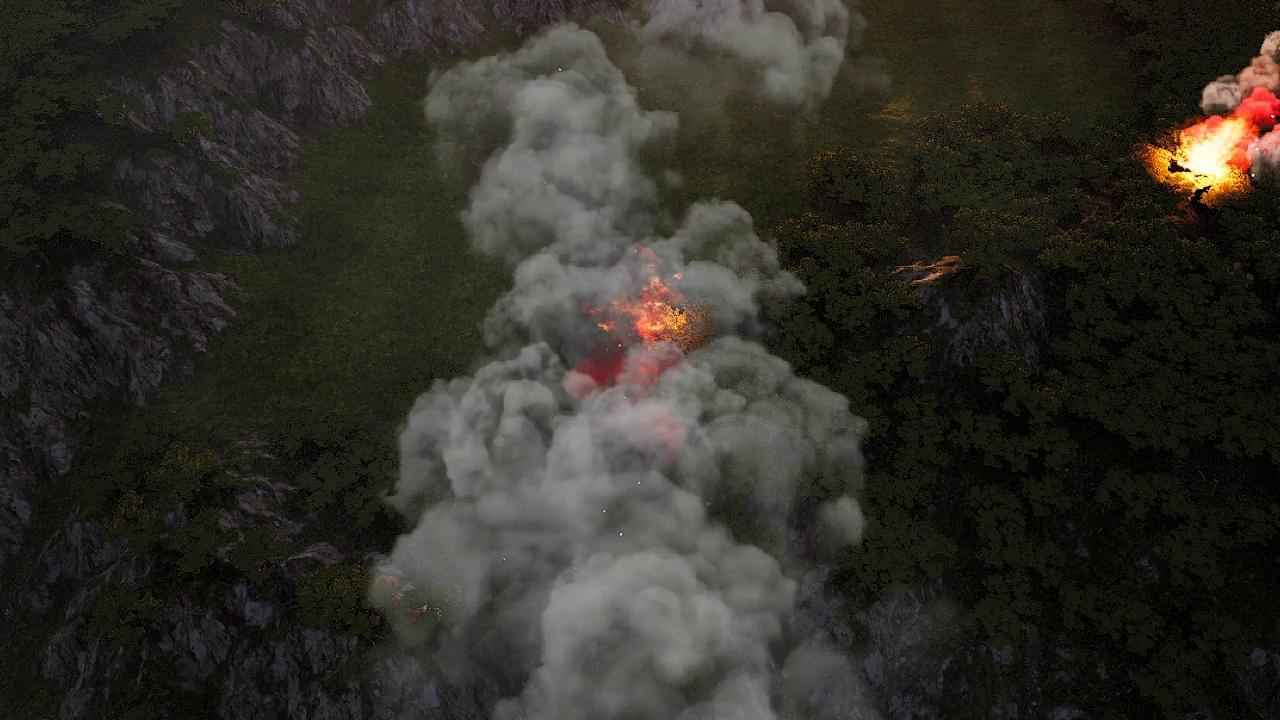fire: (584, 255, 709, 387), (1168, 113, 1255, 192)
smoke: (311, 4, 904, 719), (1202, 21, 1280, 165)
